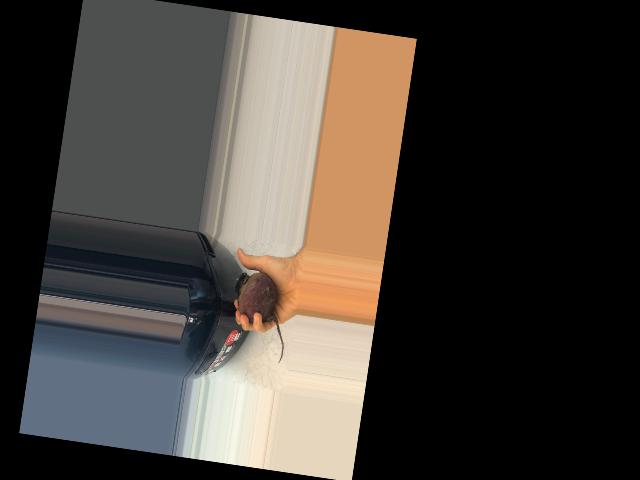beet: (225, 269, 294, 364)
